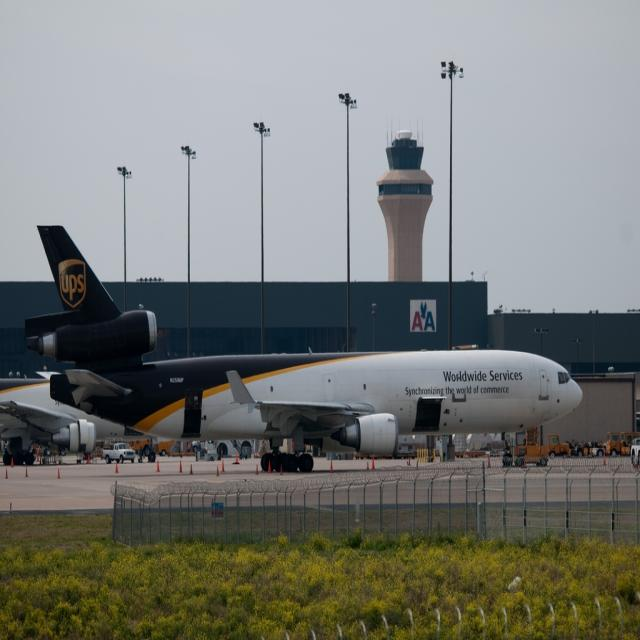ups: (58, 261, 86, 311)
